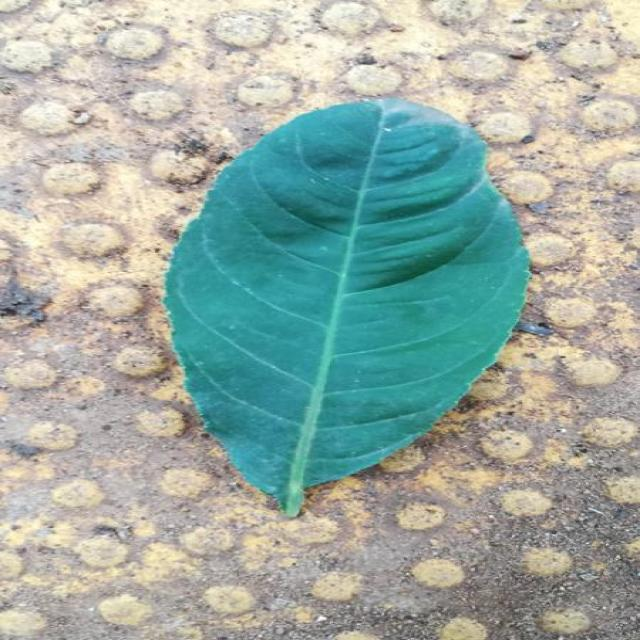badipala: (163, 99, 528, 516)
